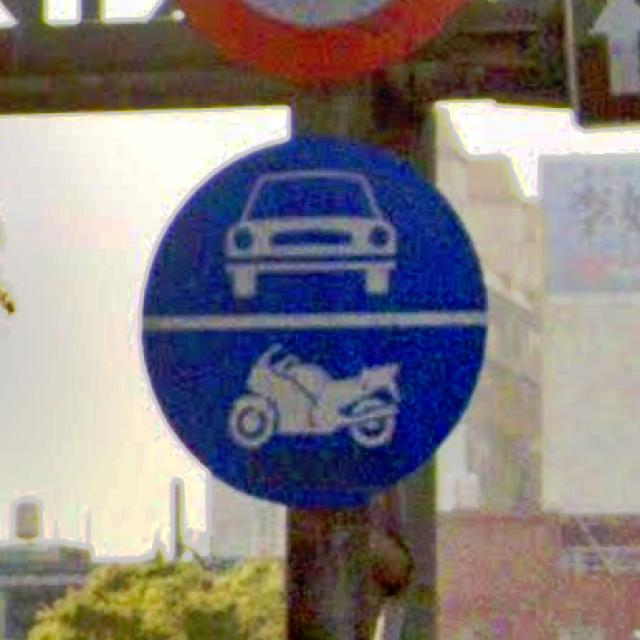carmotorcycle: (134, 128, 491, 510)
